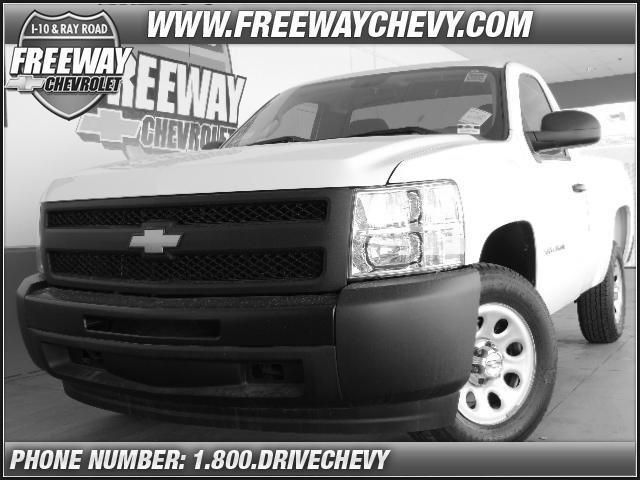car: (17, 60, 636, 441)
